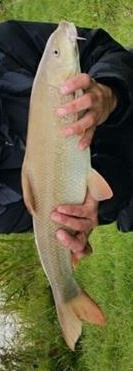Barbus barbus: (20, 20, 113, 351)
